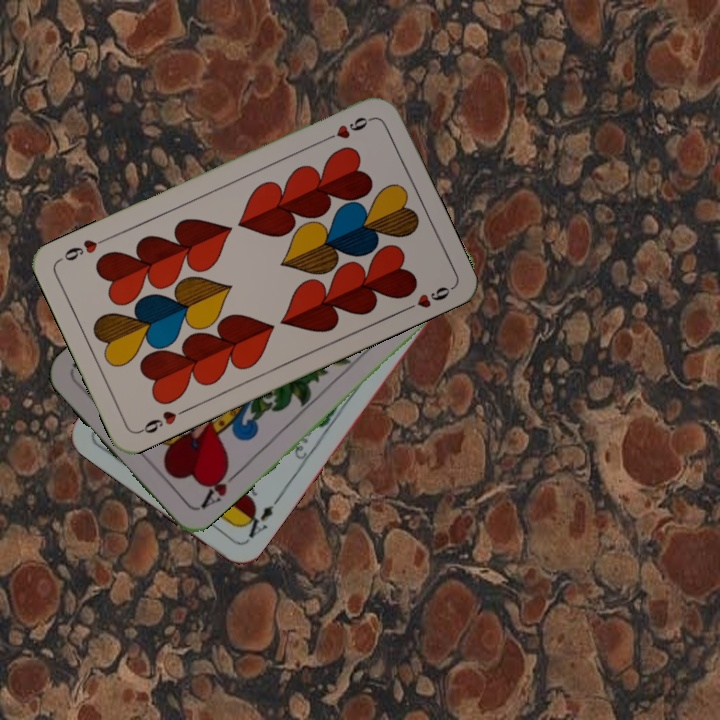EA: (237, 501, 277, 545)
H9: (319, 112, 376, 144), (134, 404, 190, 436)
HA: (194, 461, 242, 512)
